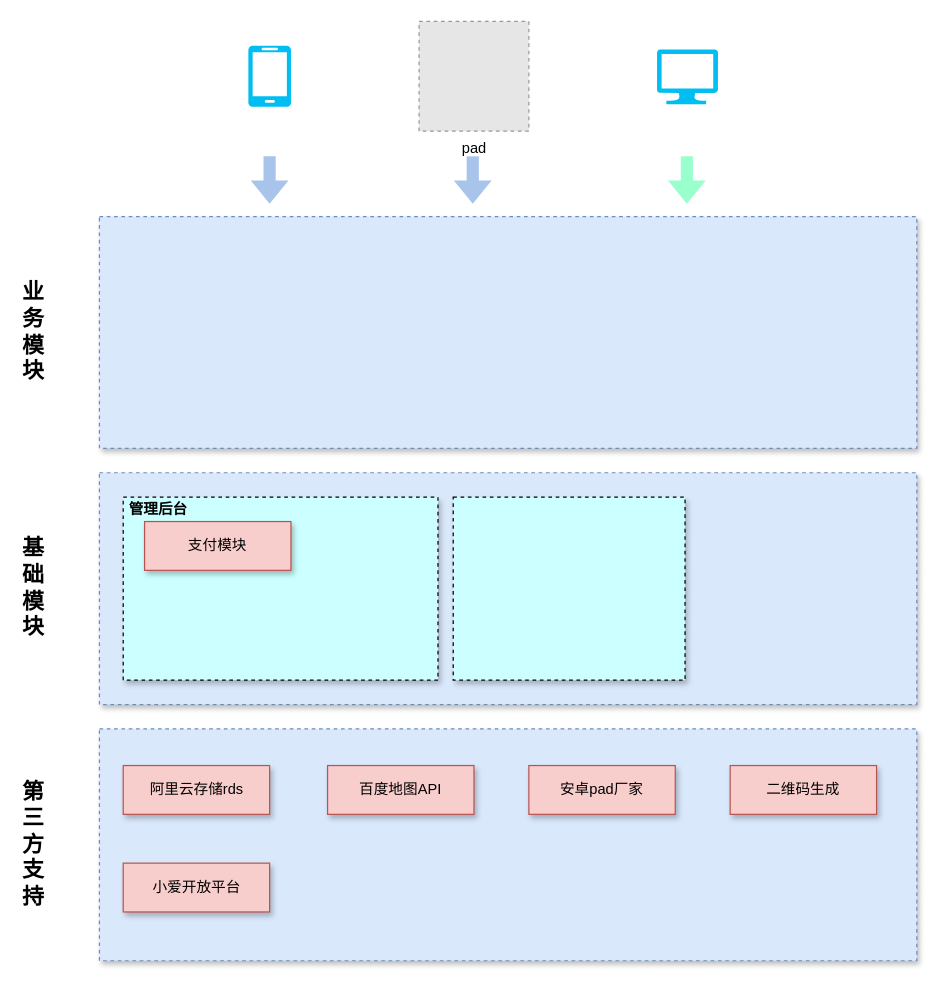
This 946x991 diagram has some shape labels left out. Grey dashed boxes stand in for pictures. The centre of each missing label's shape, as x and y in pixels:
"手机" belongs at point (269, 75).
"电脑" belongs at point (686, 76).
